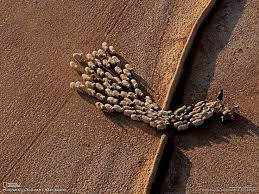sheep: (94, 101, 106, 111), (69, 59, 79, 70), (68, 81, 79, 91), (129, 113, 140, 123), (125, 61, 135, 72), (84, 80, 96, 88), (85, 89, 97, 97), (101, 40, 109, 51), (130, 78, 139, 87), (222, 111, 231, 120), (72, 51, 82, 59), (85, 52, 94, 60), (109, 43, 116, 53), (84, 67, 95, 73), (135, 89, 144, 96)
